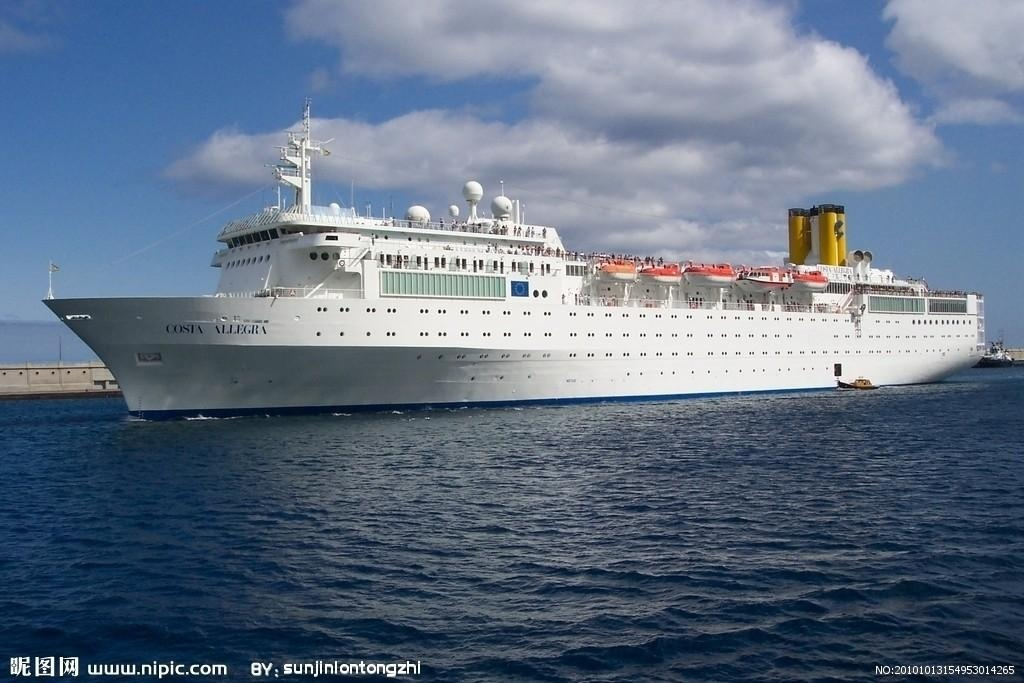youlun: (33, 120, 985, 417)
